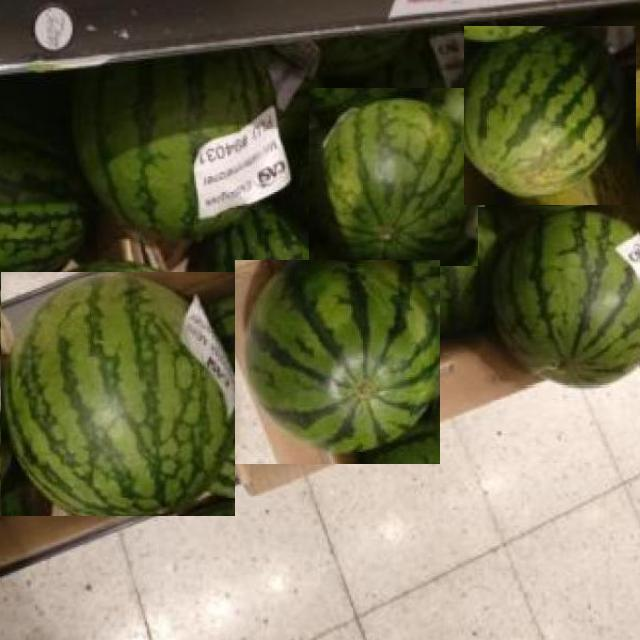Watermelon: (0, 271, 235, 516), (235, 260, 440, 464), (309, 87, 485, 266), (464, 27, 636, 205), (479, 208, 639, 386)
